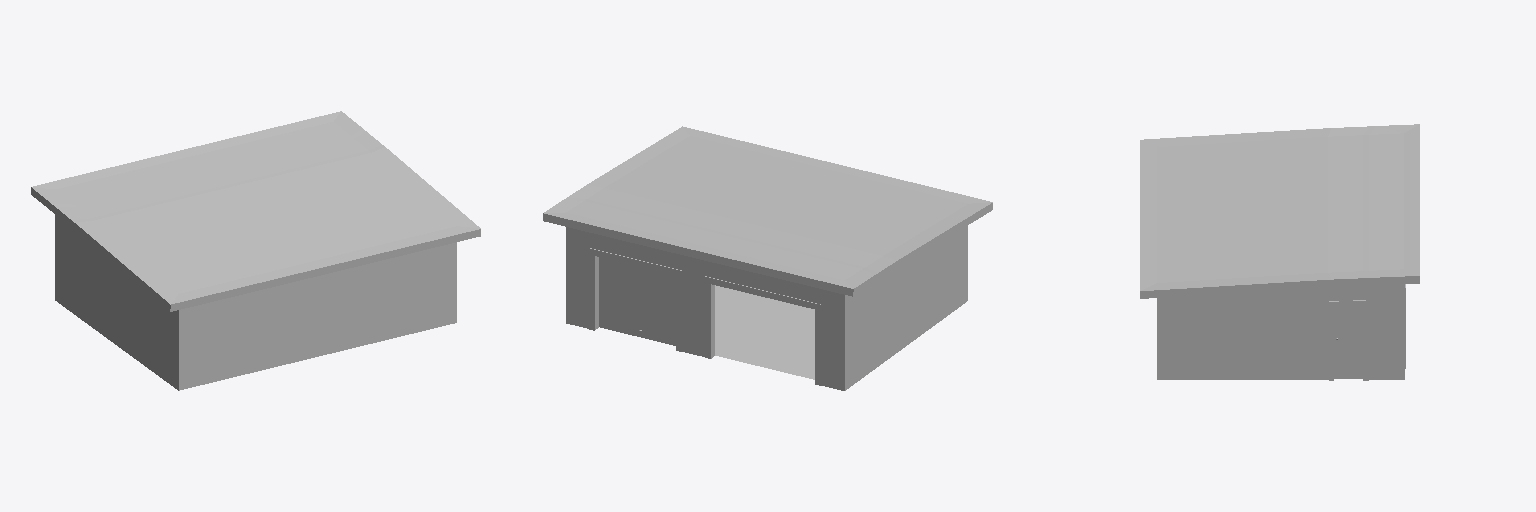
The model's file is double_garage.obj.
3 renders of one model, left to right at view 1: azimuth 30°, elevation 25°; view 2: azimuth 150°, elevation 25°; view 3: azimuth 270°, elevation 25°, orthographic.
Visible parts, largest first — view 1: Garage_Cube.001; view 2: Garage_Cube.001; view 3: Garage_Cube.001.
Part boxes in pixels (left/top/right/bottom): Garage_Cube.001: left=31, top=111, right=480, bottom=390; Garage_Cube.001: left=543, top=126, right=992, bottom=390; Garage_Cube.001: left=1140, top=124, right=1419, bottom=380.
Size of the model in its own units: 8.74 by 3.01 by 6.82.